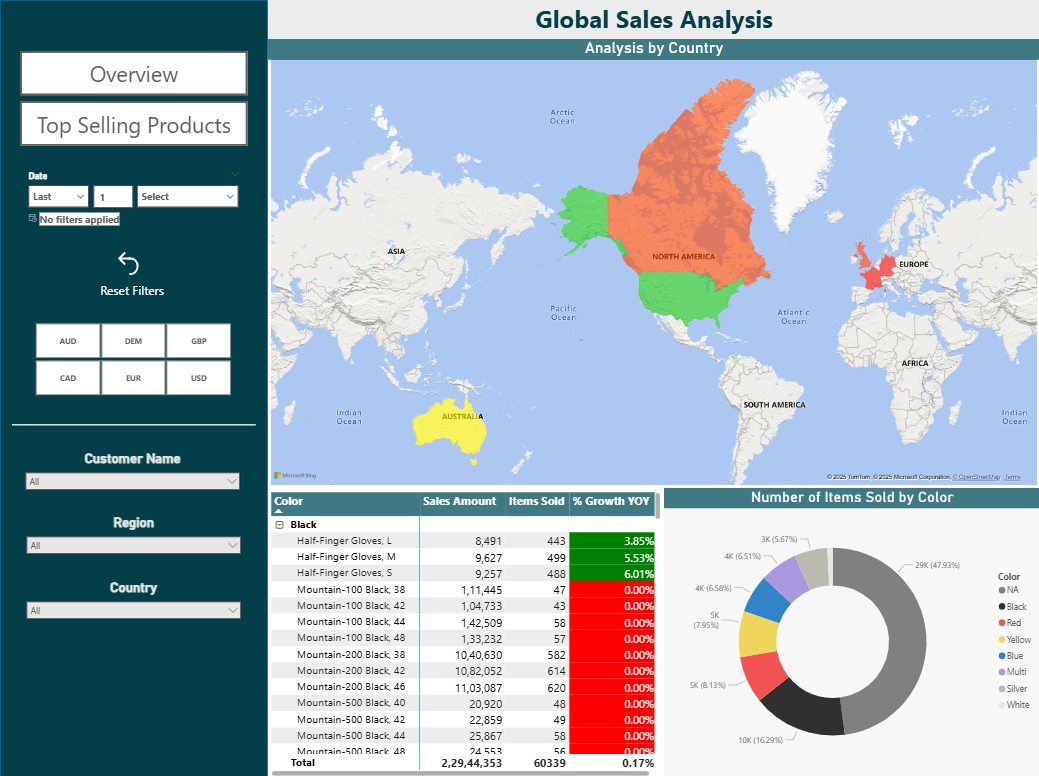

The dashboard page shown, as its layout file describes it:
{"tool":"powerbi","page":{"name":"Main Report","canvas":[1600,1200],"ordinal":0},"visuals":[{"type":"shape","box":[0,1.1,411.8,1199.2],"z":0},{"type":"shape","box":[18.6,615.7,374.9,79.4],"z":1000},{"type":"textbox","box":[411.8,0,1188.2,62.3],"z":2000},{"type":"actionButton","box":[31,79.4,350,68.3],"z":3000},{"type":"actionButton","box":[30.7,157,350.3,69.2],"z":4000},{"type":"slicer","fields":{"Values":["Calendar Table.Date"]},"box":[30.7,259.2,350.3,113.1],"z":5000},{"type":"slicer","fields":{"Values":["dimCurrency.CurrencyAlternateKey"]},"box":[28.5,491.5,350,124.1],"z":6000},{"type":"actionButton","box":[174.6,383.3,62.6,47.2],"z":7000},{"type":"slicer","title":"Customer Name","fields":{"Values":["dimCustomer.Customer Name"]},"box":[28.5,695.1,350,99.3],"z":8000},{"type":"slicer","title":"Region","fields":{"Values":["dimSalesTerritory.SalesTerritoryRegion"]},"box":[31,794.4,350,99.3],"z":9000},{"type":"slicer","title":"Country","fields":{"Values":["dimSalesTerritory.SalesTerritoryCountry"]},"box":[31,893.7,350,99.3],"z":10000},{"type":"filledMap","title":"Analysis by Country","fields":{"Category":["dimSalesTerritory.SalesTerritoryCountry"]},"box":[412.1,62.1,1187.9,691.4],"z":11000},{"type":"pivotTable","fields":{"Rows":["dimProduct.Color","dimProduct.EnglishProductName"],"Values":["#Measures.Currency Conversion","#Measures.Number of Sales","#Measures.% Sales Growth YOY"]},"box":[412.1,753.5,609.5,446.9],"z":12000},{"type":"donutChart","fields":{"Category":["dimProduct.Color"],"Y":["#Measures.Number of Sales"]},"box":[1021,753,579,447],"z":13000},{"type":"textbox","box":[53.8,430.5,298.7,41.7],"z":14000}]}

Visuals, with their boxes on the page's 1600x1200 design canvas (x1, y1, x2, y2). These are canvas units, not pixel positions in the 1039x776 screenshot, which may show the page scaled, cropped or inside an application window:
shape: region(0, 1, 412, 1200)
shape: region(19, 616, 394, 695)
textbox: region(412, 0, 1600, 62)
actionButton: region(31, 79, 381, 148)
actionButton: region(31, 157, 381, 226)
slicer - Calendar Table.Date: region(31, 259, 381, 372)
slicer - dimCurrency.CurrencyAlternateKey: region(28, 492, 378, 616)
actionButton: region(175, 383, 237, 430)
"Customer Name" slicer: region(28, 695, 378, 794)
"Region" slicer: region(31, 794, 381, 894)
"Country" slicer: region(31, 894, 381, 993)
"Analysis by Country" filledMap: region(412, 62, 1600, 754)
pivotTable - dimProduct.Color x dimProduct.EnglishProductName: region(412, 754, 1022, 1200)
donutChart - dimProduct.Color x #Measures.Number of Sales: region(1021, 753, 1600, 1200)
textbox: region(54, 430, 352, 472)
